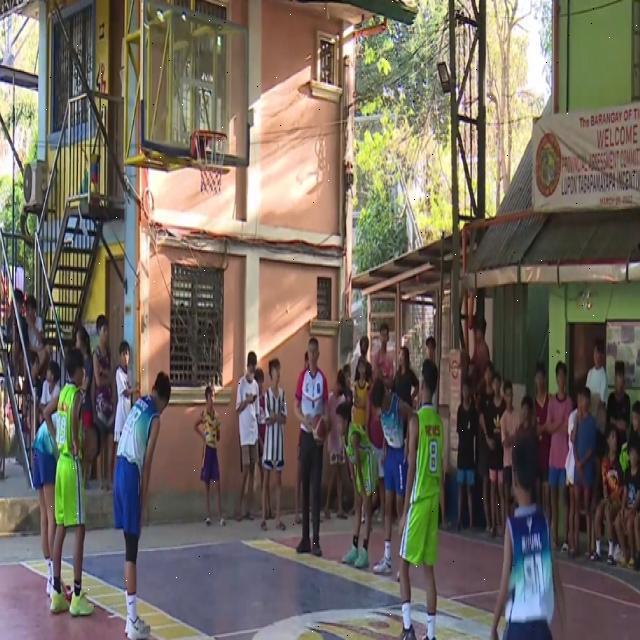ball: (310, 413, 328, 449)
hoop: (187, 129, 230, 143)
